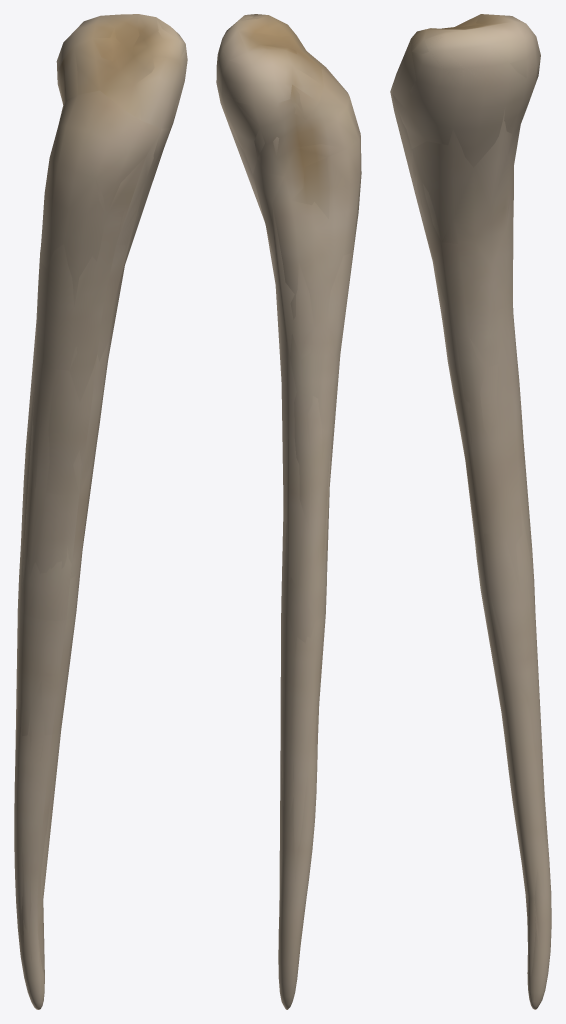
The model's file is L metacarpi quartum.fbx.
3 renders of one model, left to right at view 1: azimuth 30°, elevation 25°; view 2: azimuth 150°, elevation 25°; view 3: azimuth 270°, elevation 25°, orthographic. The views are drawn at different scales.
Visible parts, largest first — view 1: L metacarpi quartum, L metacarpi quartum low; view 2: L metacarpi quartum, L metacarpi quartum low; view 3: L metacarpi quartum low, L metacarpi quartum.
Part boxes in pixels (x1=…): L metacarpi quartum: x1=14, y1=14, x2=187, y2=1009; L metacarpi quartum low: x1=14, y1=14, x2=185, y2=974; L metacarpi quartum: x1=216, y1=14, x2=361, y2=1009; L metacarpi quartum low: x1=217, y1=14, x2=359, y2=957; L metacarpi quartum low: x1=391, y1=14, x2=546, y2=1009; L metacarpi quartum: x1=390, y1=14, x2=551, y2=1009.
Size of the model in its own units: 2.88 by 20.94 by 3.
Materials: 1 (1 with a texture image).
